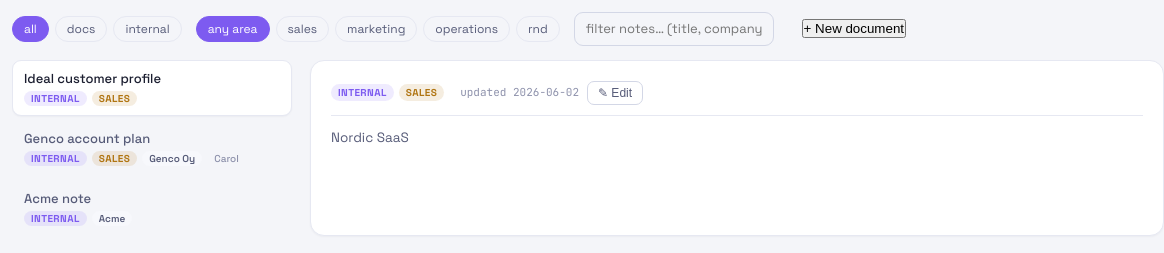
Test: Documents view — search + deep-link open › filters notes by the search box
Expected: the text "Ideal customer profile" is shown, [24,70,161,86]
Step 1. Type "acme" into the field with placeholder "filter notes… (title, company, topic, text)" → x=674, y=29, box [574,12,774,46]
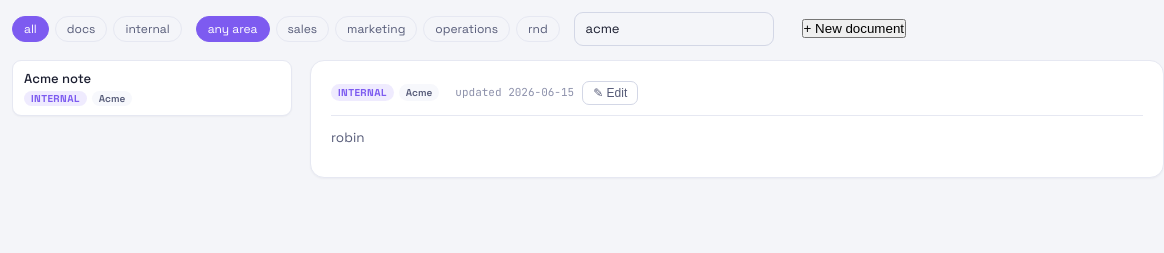
Expected: the text "Acme note" is shown, [24,70,91,86]
Now the button "Ideal customer profile" is gone
